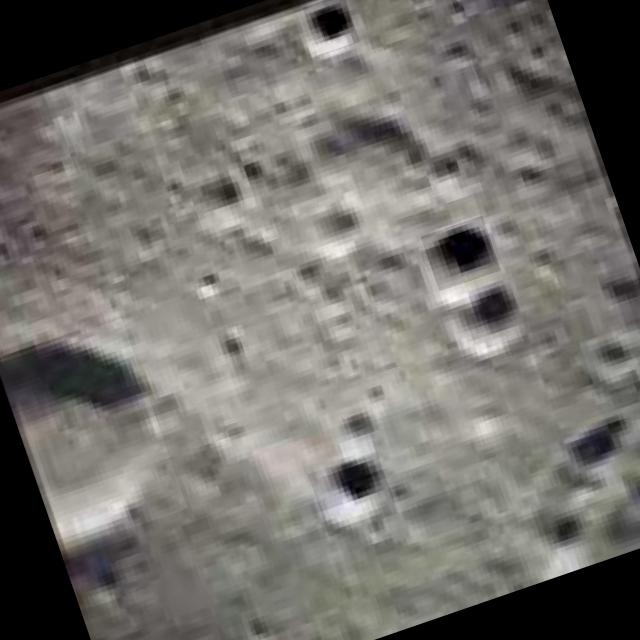crater: (0, 318, 188, 552), (441, 278, 536, 368), (309, 451, 399, 537), (422, 216, 502, 292), (304, 0, 361, 55)
